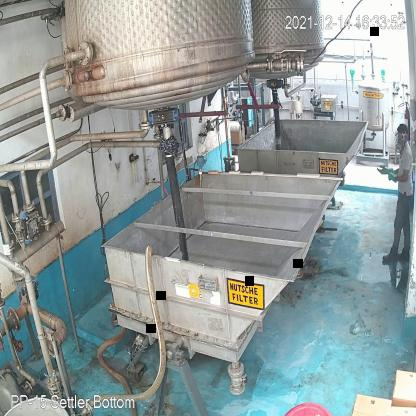goggles: (394, 130, 408, 144)
shoes: (382, 241, 400, 264), (399, 242, 411, 263)
